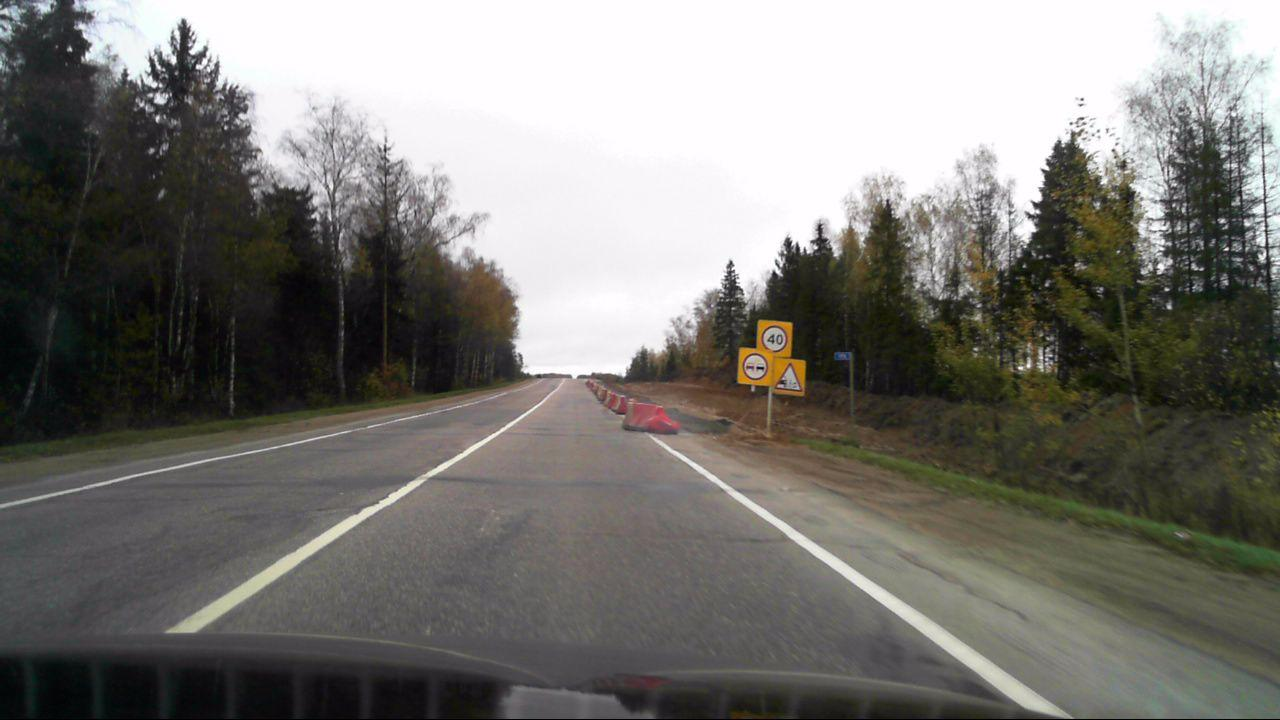1_18: (773, 363, 803, 391)
3_20: (741, 353, 770, 380)
3_24: (761, 325, 790, 354)
